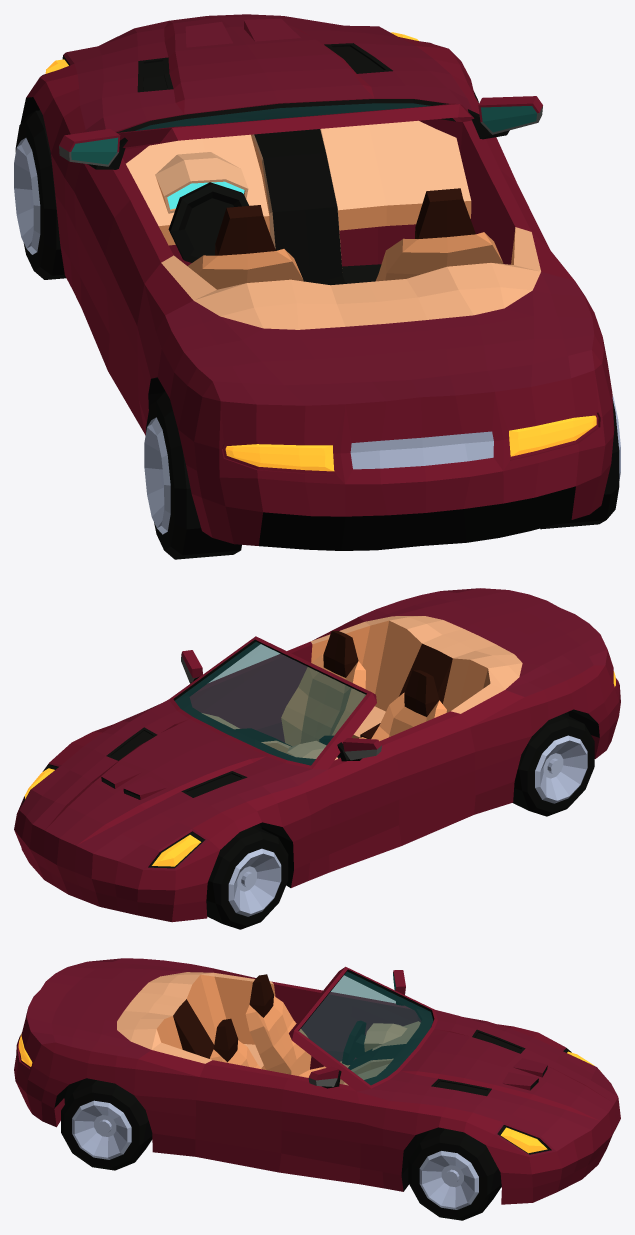
Rendered from AstonMartin_02.glb.
3 renders of one model, top to bottom at view 1: azimuth 30°, elevation 25°; view 2: azimuth 150°, elevation 25°; view 3: azimuth 270°, elevation 25°, orthographic. The views are drawn at different scales.
Parts seen in each view (by area): view 1: AstonMartin_02; view 2: AstonMartin_02; view 3: AstonMartin_02.
Boxes of the visible parts, box(x1,y1,x2,y2) form: AstonMartin_02: box(14, 14, 620, 559); AstonMartin_02: box(14, 588, 620, 929); AstonMartin_02: box(14, 958, 620, 1220).
Size of what is drawn, in the model's own units: 4.11 by 1.78 by 6.59.
2 materials, 2 textured.
